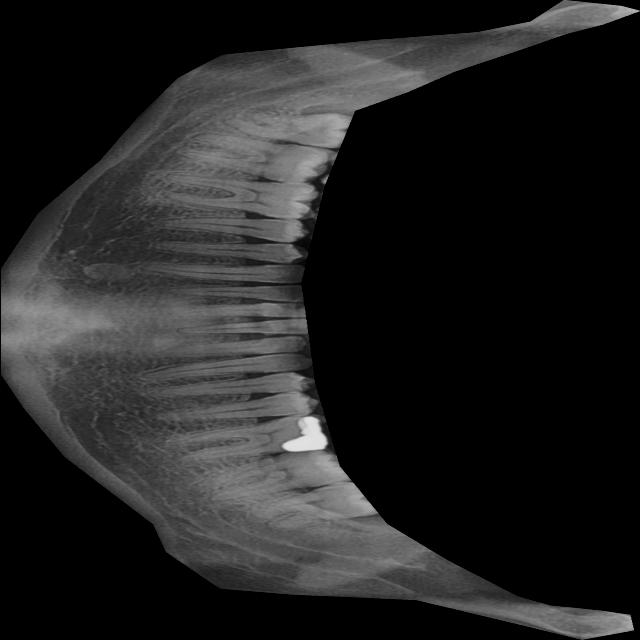mandibula: (0, 0, 640, 640)
